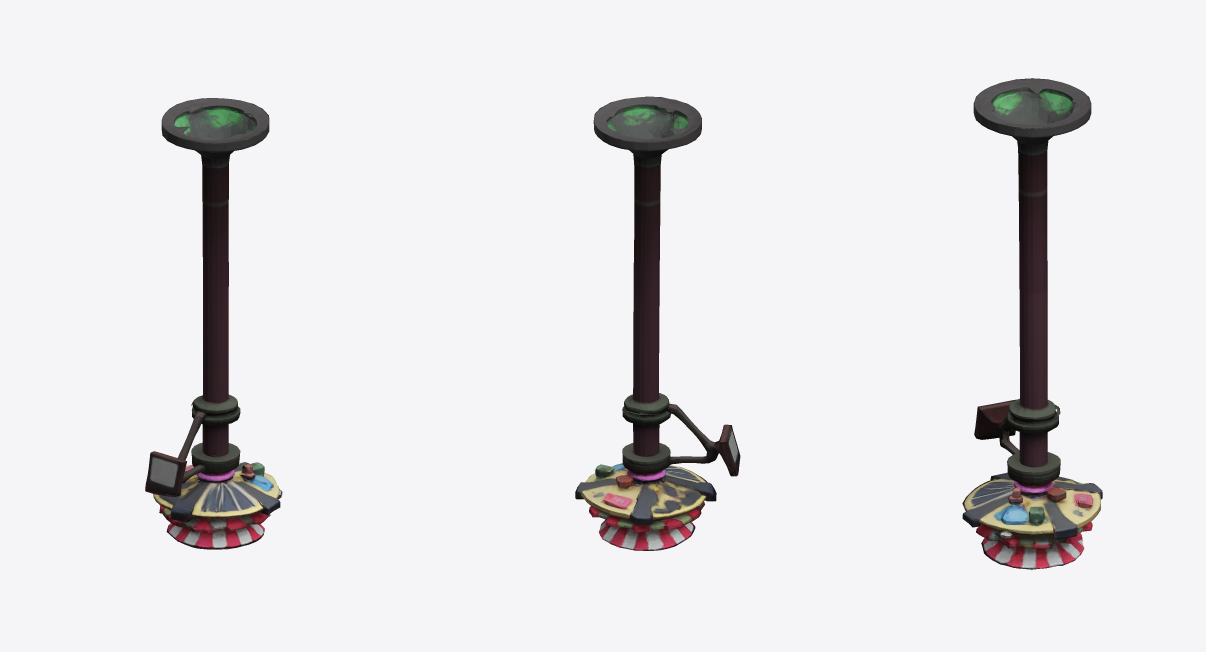
File: ours.glb
3 views of the same model, side by side, from view 1: azimuth 30°, elevation 25°; view 2: azimuth 150°, elevation 25°; view 3: azimuth 270°, elevation 25° (orthographic). The views are drawn at different scales.
Parts seen in each view (by area): view 1: world; view 2: world; view 3: world.
Part boxes in pixels (left/top/right/bottom): world: left=145, top=98, right=282, bottom=549; world: left=575, top=96, right=740, bottom=550; world: left=962, top=78, right=1102, bottom=569.
Bounding box in the file's own units: 0.649 × 1.1 × 0.6425.
Materials: 2 (1 with a texture image).
